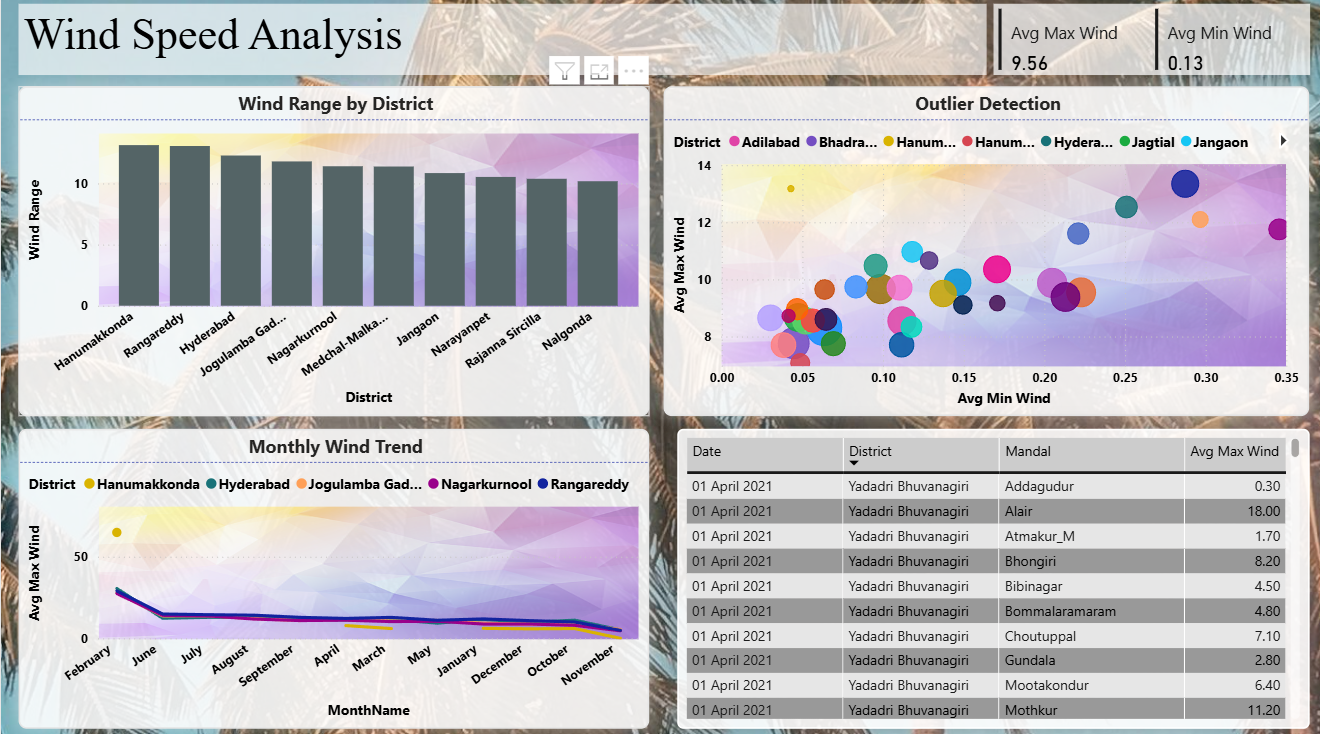

Layout of this report page (visuals, bound fields, positions):
{"tool":"powerbi","page":{"name":"4 – Wind Speed Analysis","canvas":[1280,720],"ordinal":3},"visuals":[{"type":"lineChart","title":"Monthly Wind Trend","fields":{"Category":["Date.MonthName"],"Y":["Date.Avg Max Wind"],"Series":["Weather Data.District"]},"box":[17.3,419,609.1,289.4],"z":0},{"type":"columnChart","fields":{"Category":["Weather Data.District"],"Y":["Date.Wind Range"]},"box":[17.3,87.8,609.1,318.2],"z":1000},{"type":"scatterChart","title":"Outlier Detection","fields":{"X":["Date.Avg Min Wind"],"Y":["Date.Avg Max Wind"],"Series":["Weather Data.District"],"Size":["Date.Total Rain (mm)"]},"box":[639.4,87.8,623.5,318.2],"z":2000},{"type":"tableEx","title":"Extreme Wind Days","fields":{"Values":["Weather Data.Date","Weather Data.District","Weather Data.Mandal","Date.Avg Max Wind"]},"box":[652.3,419,610.6,289.4],"z":3000},{"type":"cardVisual","title":"dddddddddddddddddddd","fields":{"Data":["Date.Avg Max Wind","Date.Avg Min Wind"]},"box":[957.6,8.6,305.3,69.1],"z":4000},{"type":"textbox","box":[17.3,8.6,934.6,69.1],"z":6000}]}

Visuals, with their boxes in screenshot pixels (x1, y1, x2, y2), scaled from the page's 1280x720 canvas onto the 1320x734 screenshot:
"Monthly Wind Trend" lineChart: BBox(18, 427, 646, 722)
columnChart - Weather Data.District x Date.Wind Range: BBox(18, 90, 646, 414)
"Outlier Detection" scatterChart: BBox(659, 90, 1302, 414)
"Extreme Wind Days" tableEx: BBox(673, 427, 1302, 722)
"dddddddddddddddddddd" cardVisual: BBox(988, 9, 1302, 79)
textbox: BBox(18, 9, 982, 79)
